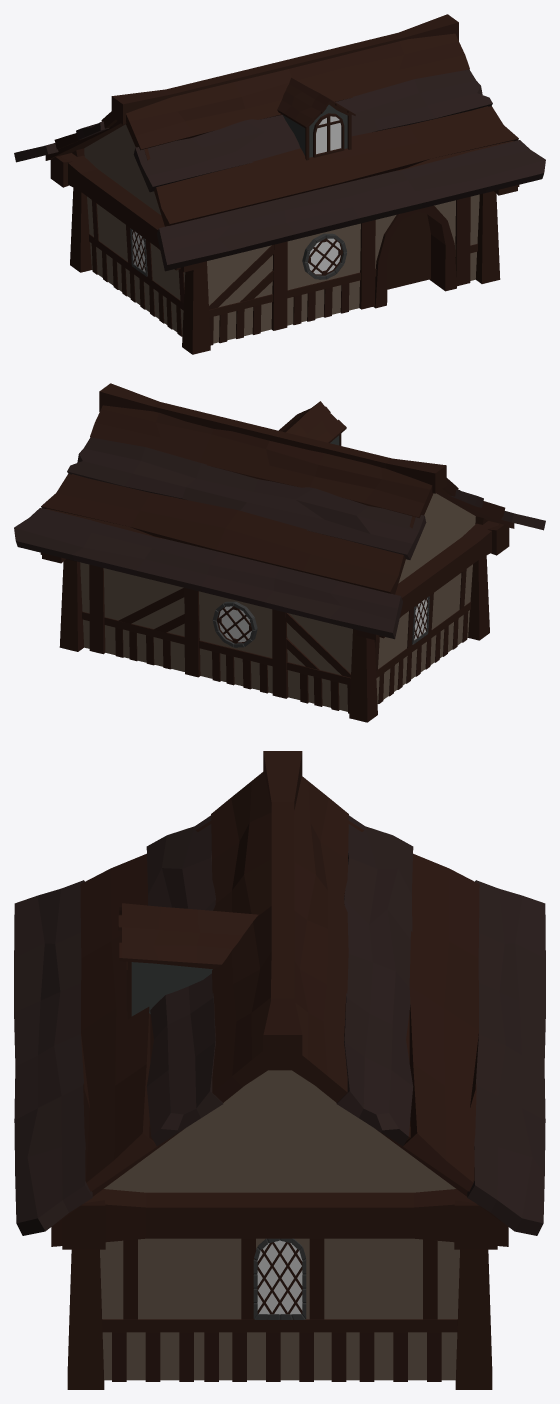
The model's file is SM_hous_02_B.gltf.
The picture shows the model from 3 angles, top to bottom: view 1: azimuth 30°, elevation 25°; view 2: azimuth 150°, elevation 25°; view 3: azimuth 270°, elevation 25°; orthographic projection. The views are drawn at different scales.
Visible parts, largest first — view 1: SM_hous_02_B; view 2: SM_hous_02_B; view 3: SM_hous_02_B.
Boxes of the visible parts, box(x1,y1,x2,y2) form: SM_hous_02_B: box(14, 14, 545, 354); SM_hous_02_B: box(14, 383, 545, 722); SM_hous_02_B: box(14, 751, 545, 1389).
Bounding box in the file's own units: 8.7 × 4.61 × 6.
